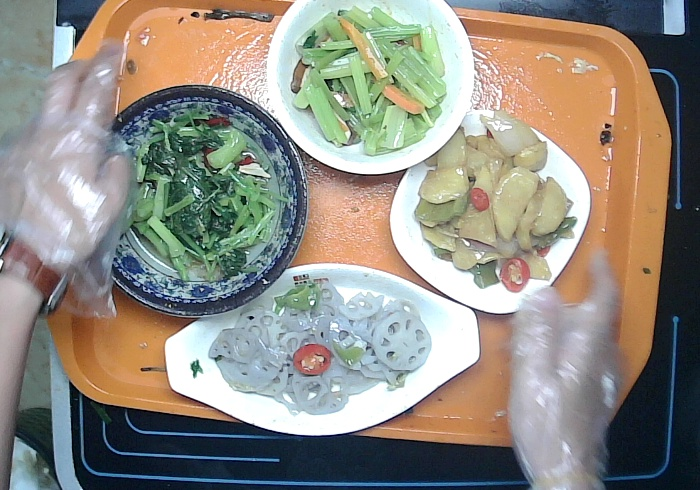ZNLD-Qing_Hua_Wan: (104, 80, 305, 323)
ZNLD-Si_Fang_Wan: (388, 112, 593, 316)
ZNLD-Tang_Wan: (261, 2, 475, 175)
ZNLD-Yu_Pan: (161, 261, 481, 442)
